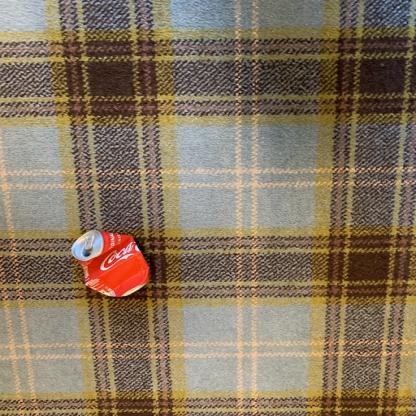trash: (73, 229, 153, 299)
